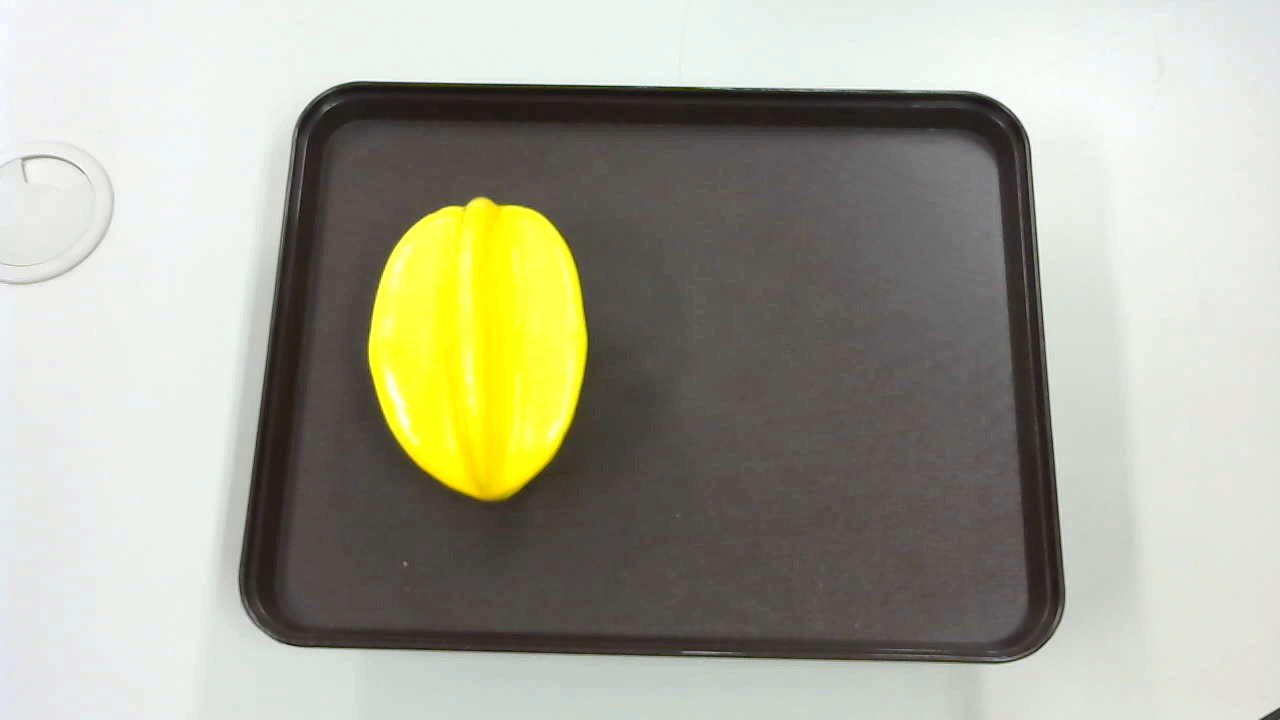star fruit: (364, 188, 590, 515)
